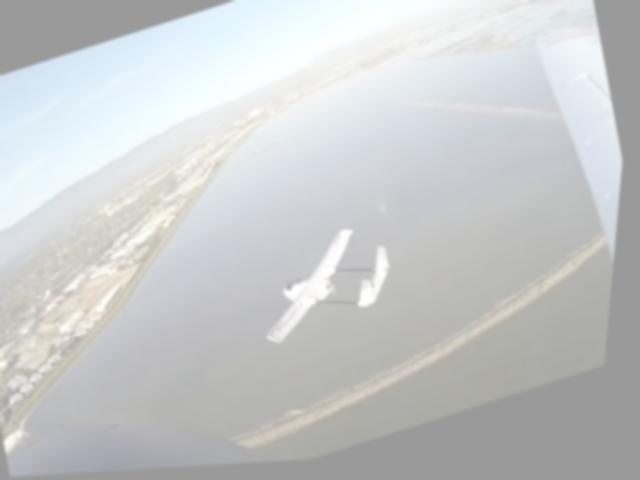iha: (240, 207, 418, 354)
